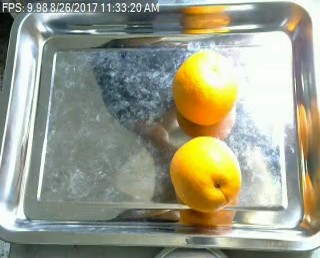Orange: (170, 136, 242, 213), (173, 49, 237, 124)
